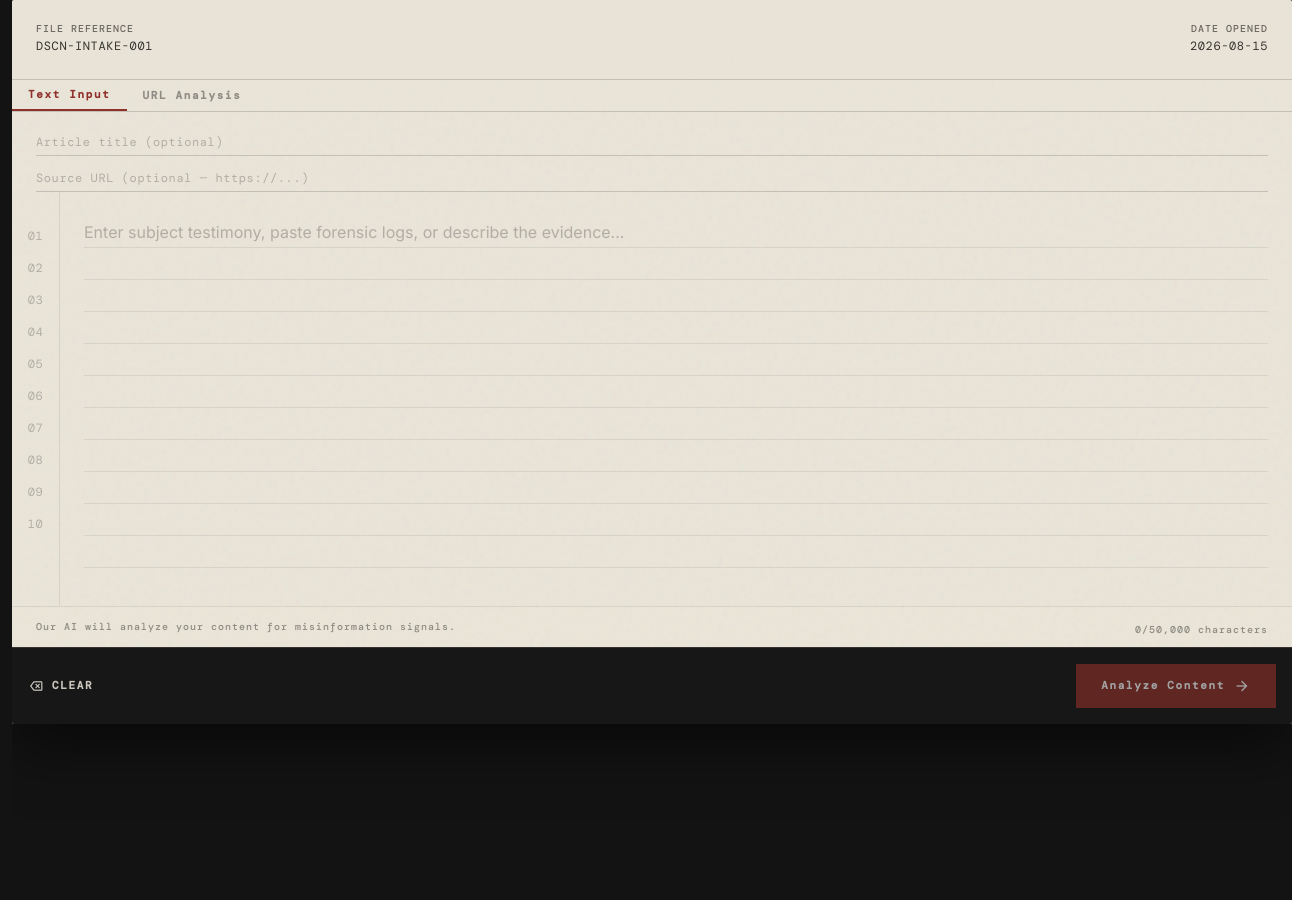
Test: ArticleInput Component › Form Validation › enables submit button when content is provided
Type "Test article content" into the text box named "article content" at (676, 399), box [84, 216, 1268, 582]
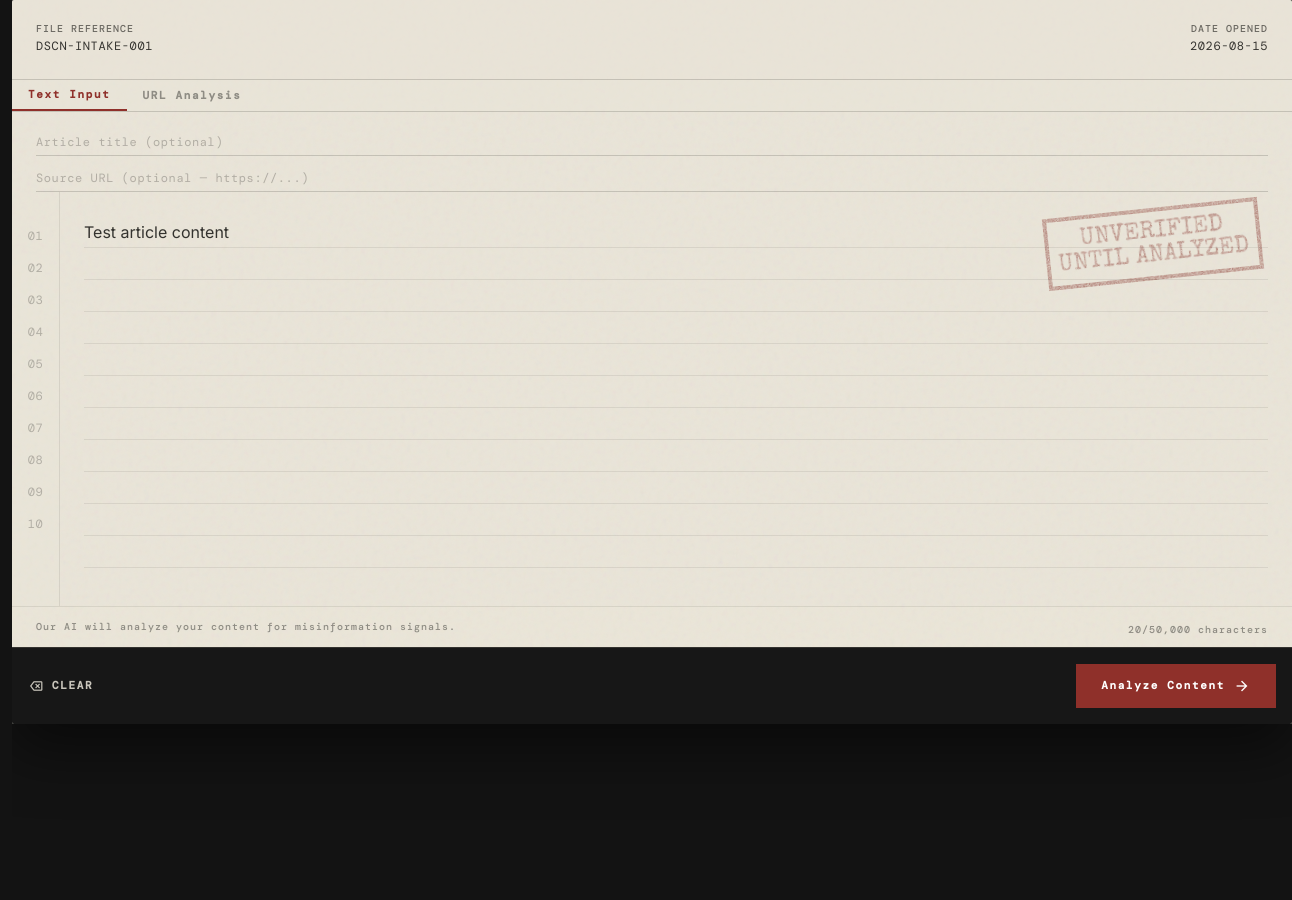
Expected: the button "Analyze Content" is enabled, [1076, 664, 1276, 708]
